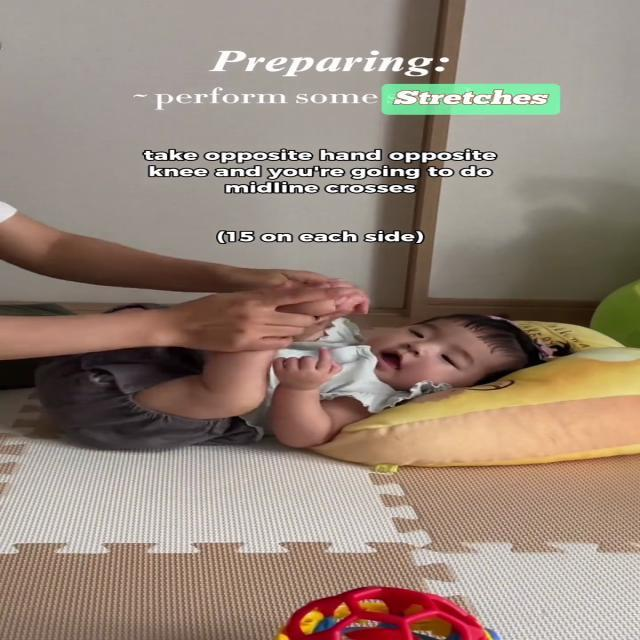baby: (30, 287, 572, 463)
